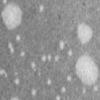white: (74, 55, 99, 85), (0, 5, 22, 30), (77, 22, 92, 45), (57, 39, 66, 52), (0, 70, 8, 78), (92, 85, 100, 93), (31, 62, 37, 72), (53, 54, 59, 63), (31, 88, 37, 97), (39, 4, 44, 14), (68, 47, 73, 57), (10, 95, 20, 100), (82, 89, 88, 97), (46, 53, 51, 62), (19, 50, 26, 56), (40, 54, 46, 61), (13, 78, 19, 85), (9, 47, 15, 53), (55, 94, 61, 100), (2, 0, 8, 5), (7, 42, 12, 48), (66, 74, 71, 80), (47, 78, 51, 85), (62, 88, 66, 93), (13, 72, 18, 76)
